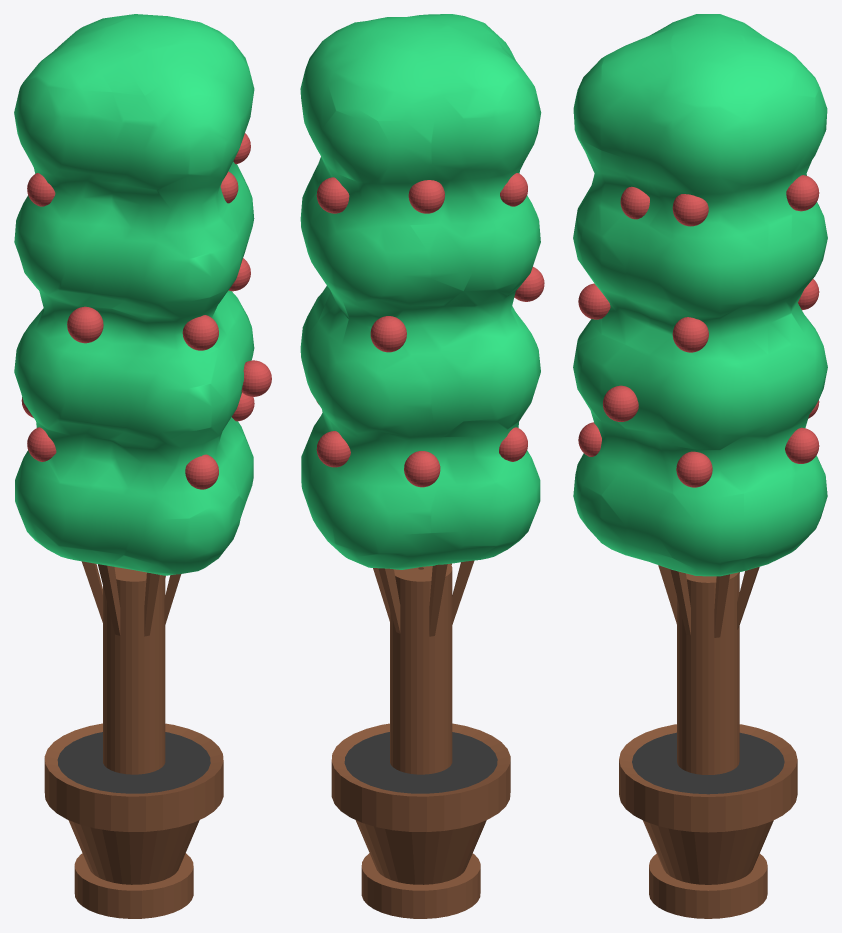
File: treeplant.fbx
3 views of the same model, side by side, from view 1: azimuth 30°, elevation 25°; view 2: azimuth 150°, elevation 25°; view 3: azimuth 270°, elevation 25° (orthographic).
Visible parts, largest first — view 1: Cylinder; view 2: Cylinder; view 3: Cylinder.
Part boxes in pixels (x1,y1,x2,y2): Cylinder: [14, 14, 271, 918]; Cylinder: [300, 14, 544, 918]; Cylinder: [573, 14, 827, 918].
Size of the model in its own units: 143 by 534 by 144.
